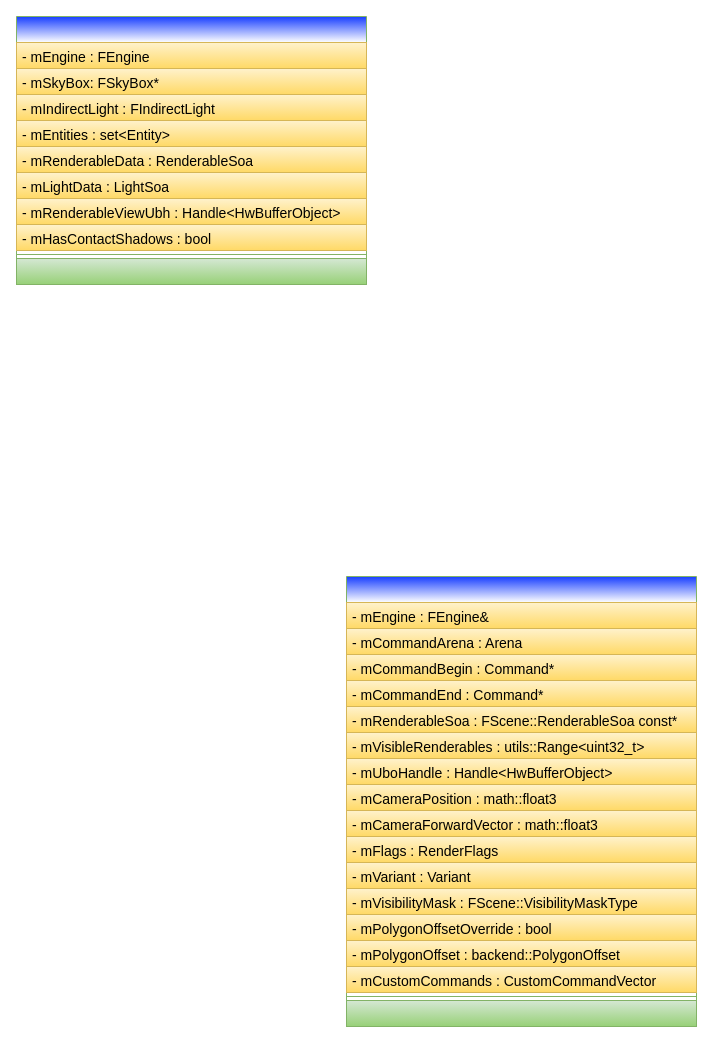
The diagram is 713 pixels wide and 1043 high, and some of its shapes have lost their labels. The shapes that lost their labels are listed below. From the top down, each one's box as (x1, y1, x2, y2) in pixels, then its label:
(16, 16, 366, 284): FScene
(346, 576, 696, 1026): RenderPass
